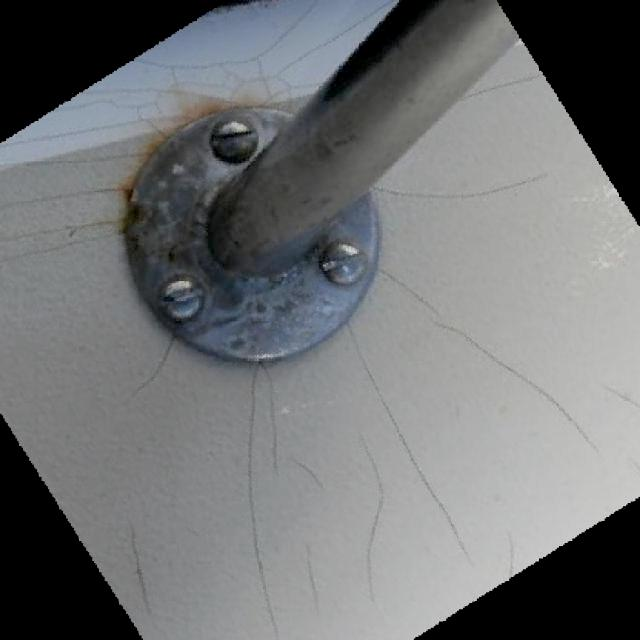crack: (383, 266, 594, 457), (338, 317, 478, 562), (246, 377, 288, 640), (369, 169, 552, 200), (357, 415, 386, 603), (126, 345, 177, 411)
